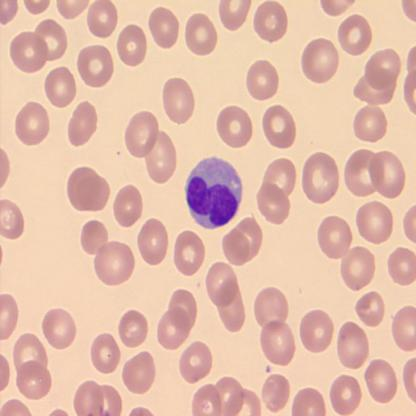Monocyte: (183, 154, 244, 231)
